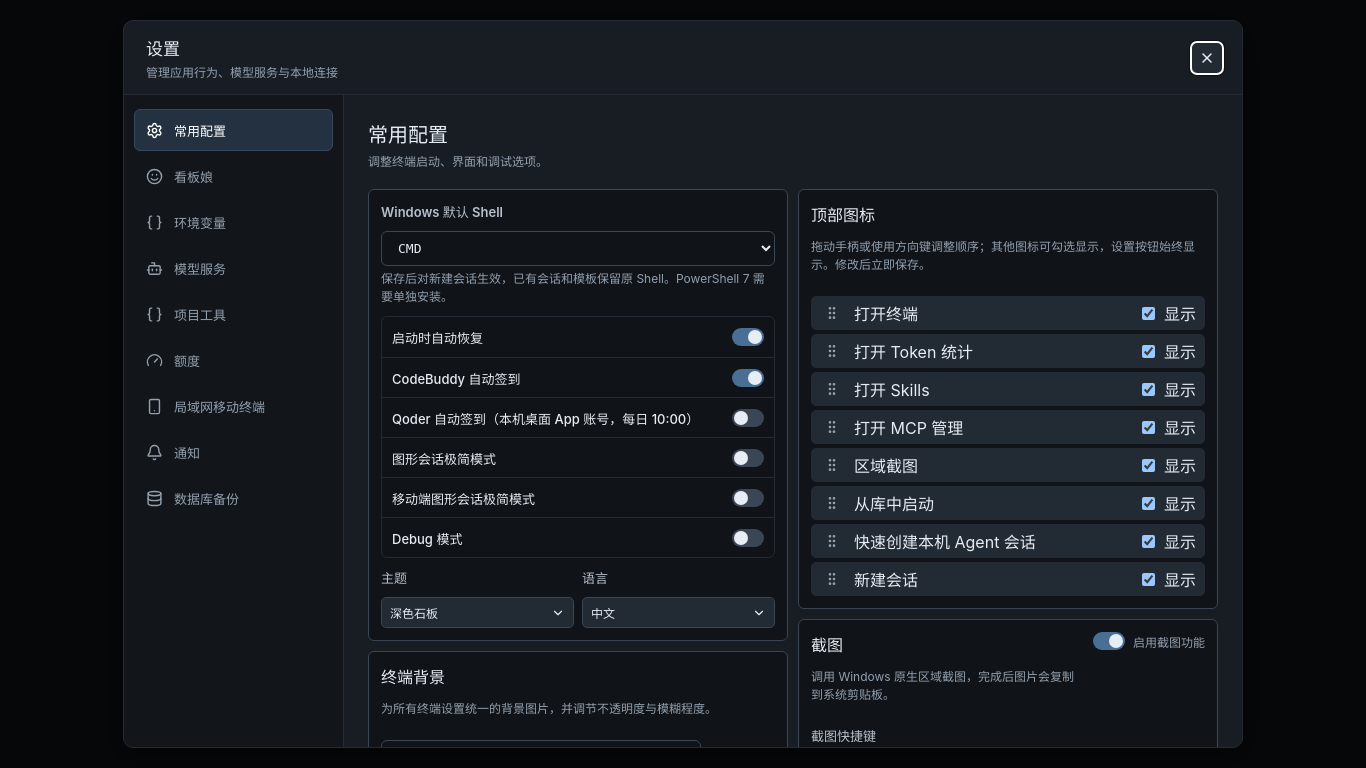
Test: SettingsModal navigation › keeps the draft open when save-before-close fails
This screenshot has width=1366, height=768.
Click the tab "环境变量" at (234, 222), box [134,201,333,243]
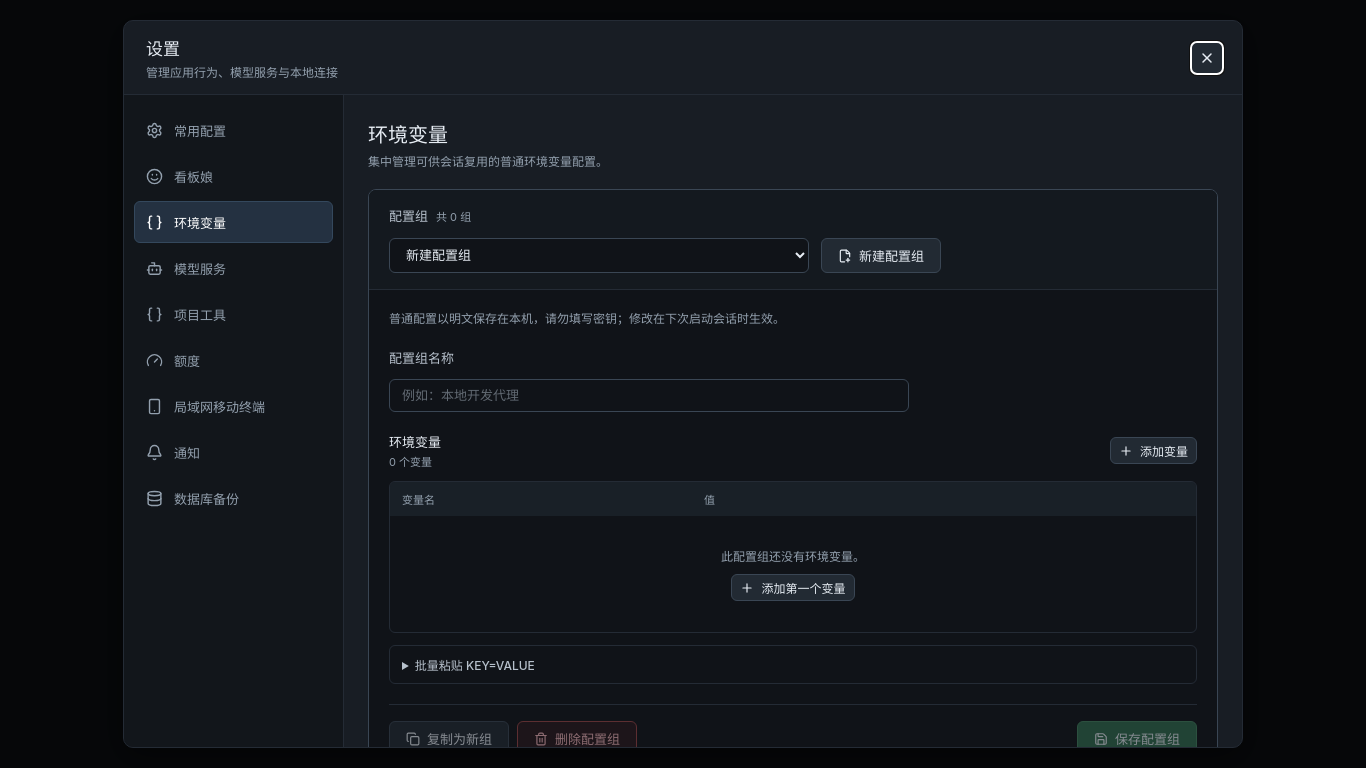
Type "开发" into the field labelled "配置组名称" at (649, 396), box [389,379,909,412]
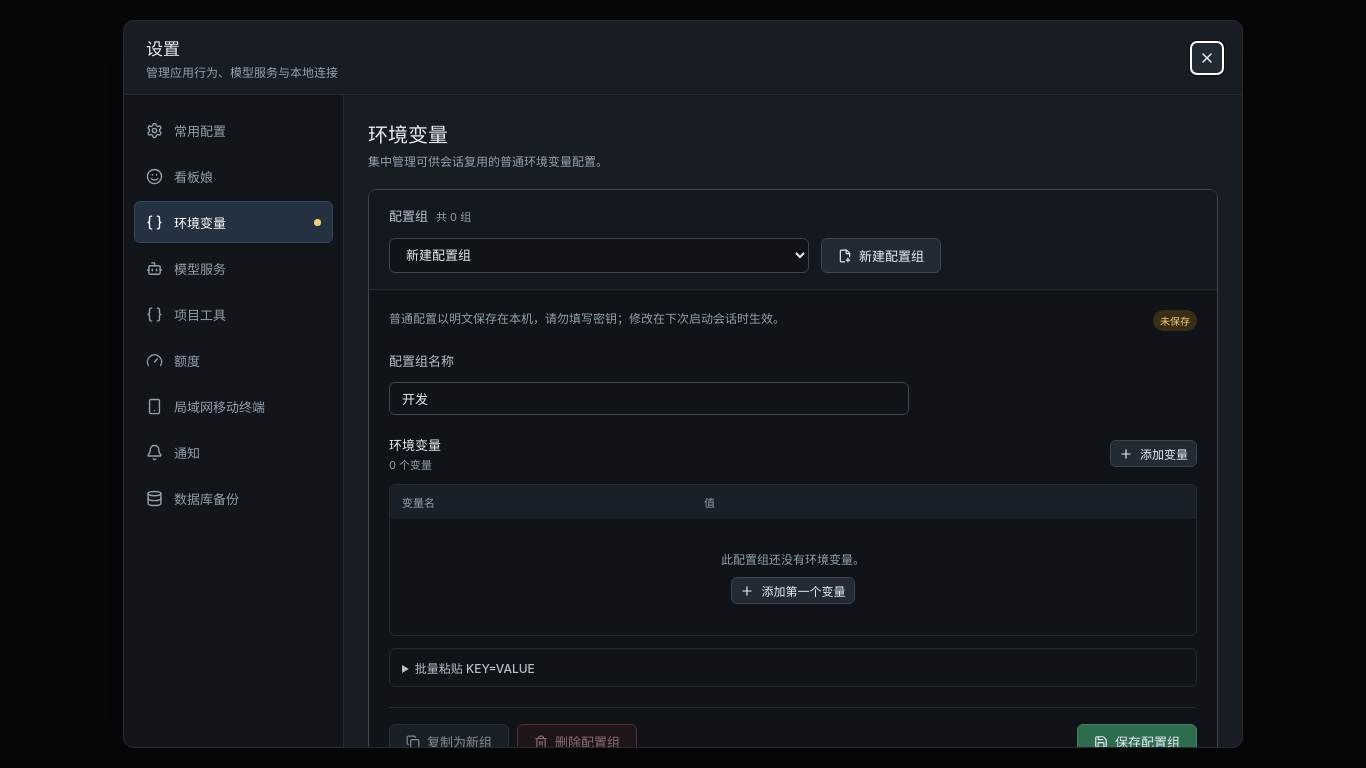
Click the heading "批量粘贴 KEY=VALUE" at (475, 668), box [415,661,535,676]
(page scrolled)
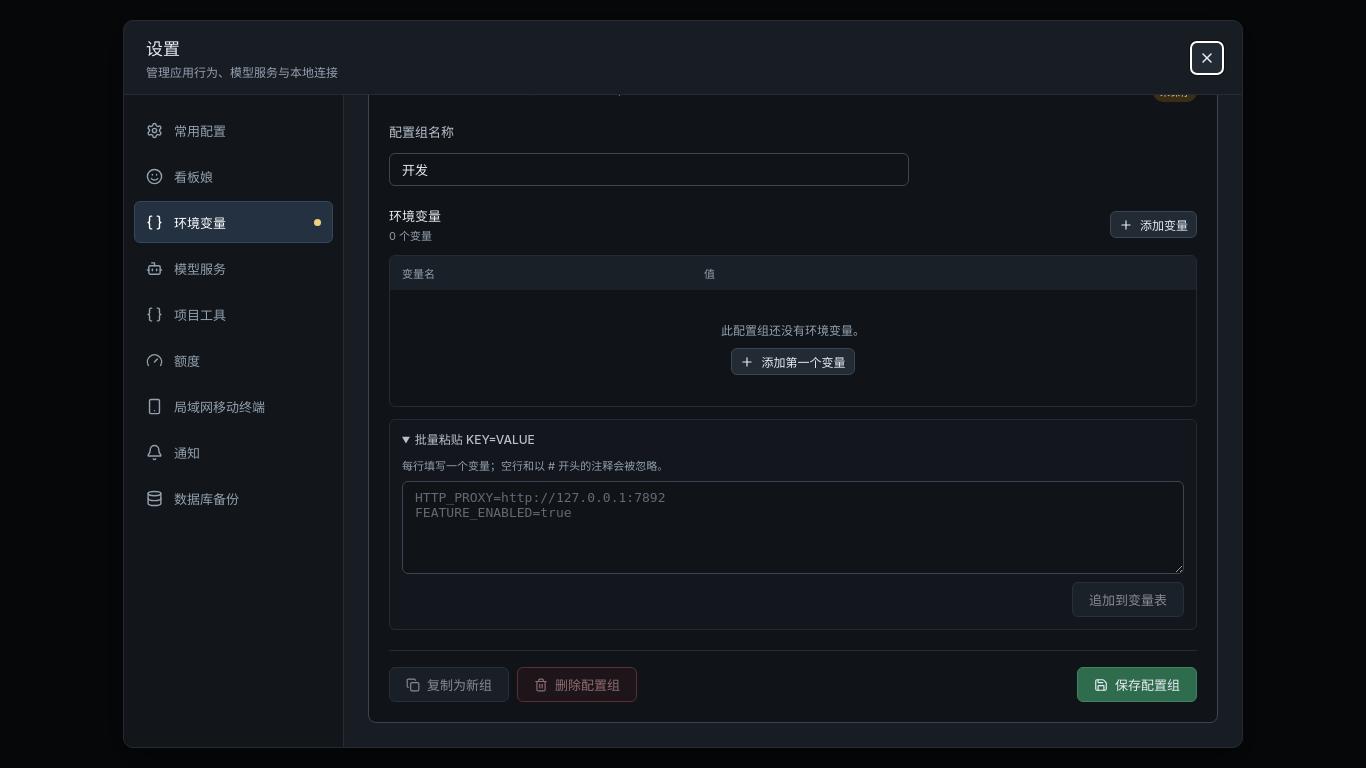
Type "TEST_FLAG=true" into the text box named "批量环境变量" at (793, 528), box [402,481,1184,574]
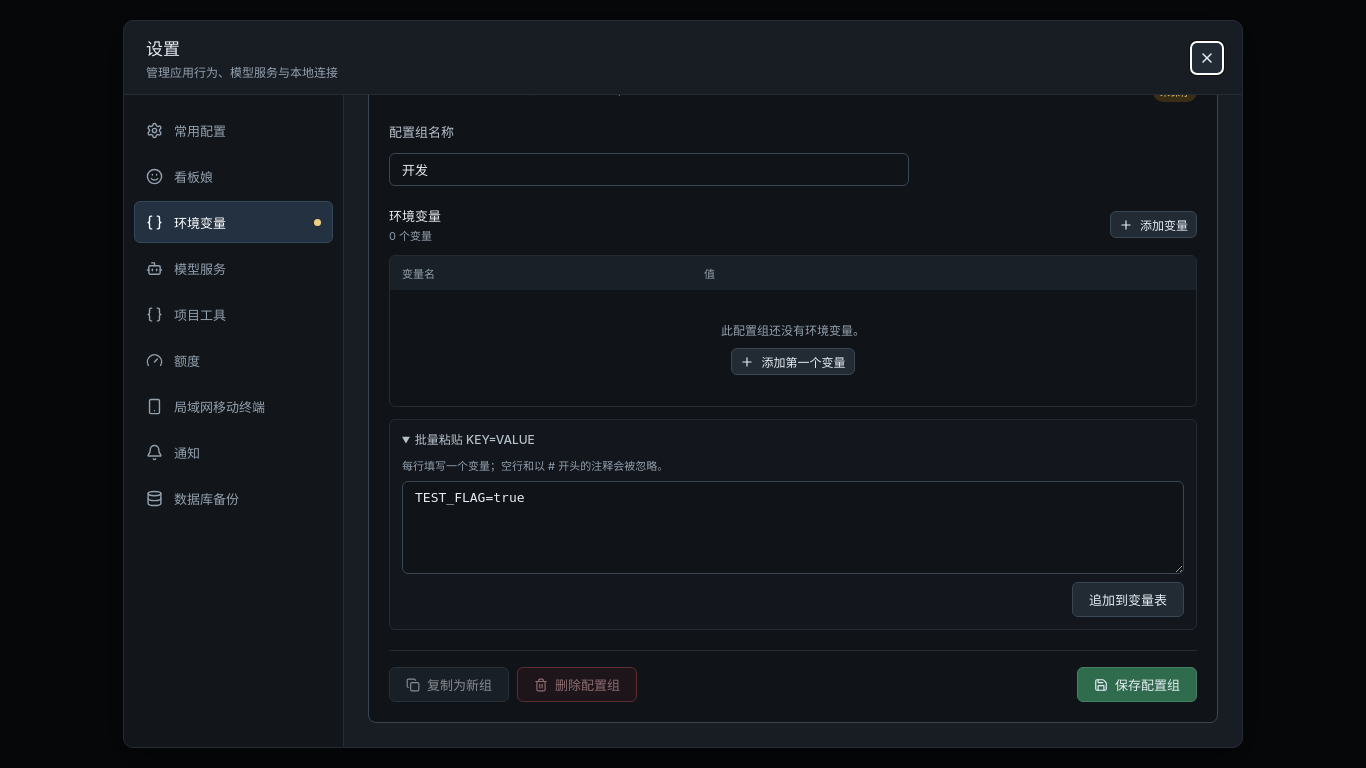
Click the button named "关闭" at (1207, 58), box [1190,40,1224,74]
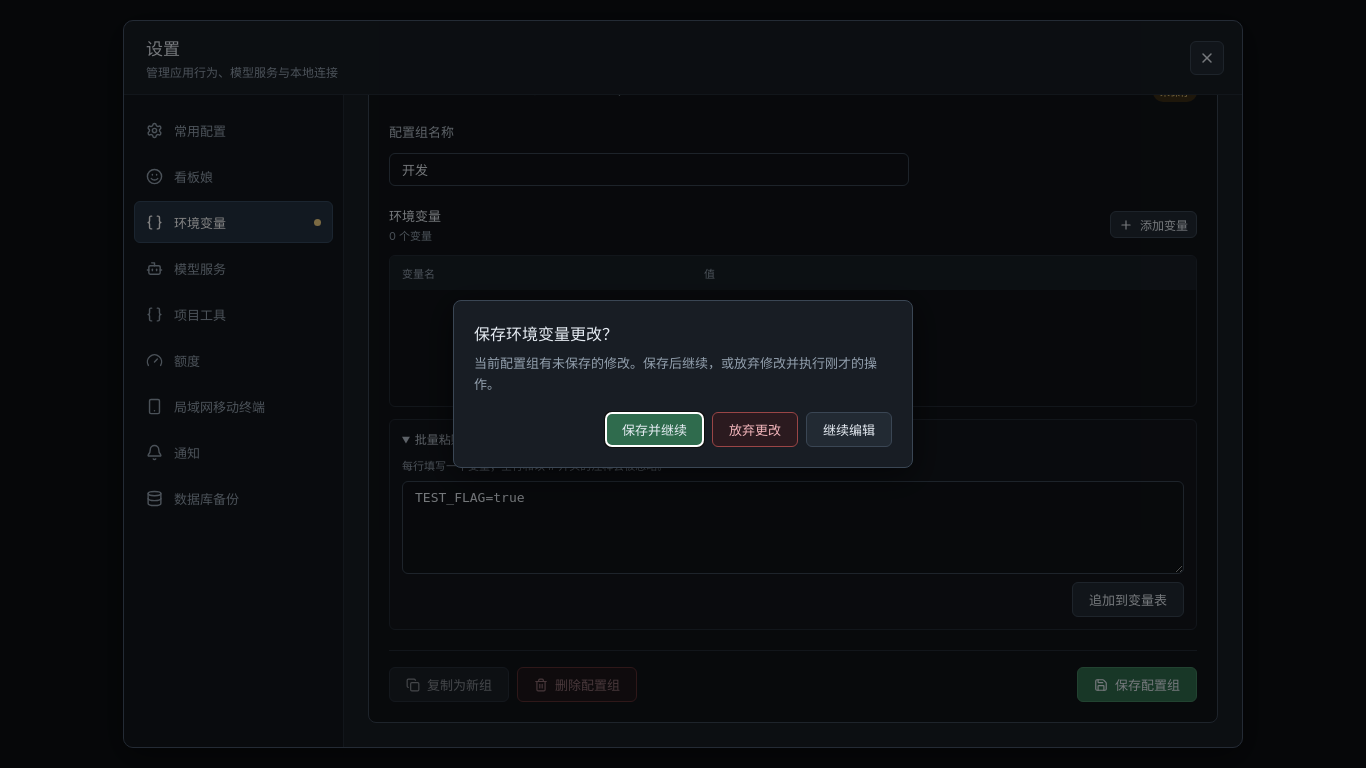
Click the button "保存并继续" at (654, 429), box [605,412,704,447]
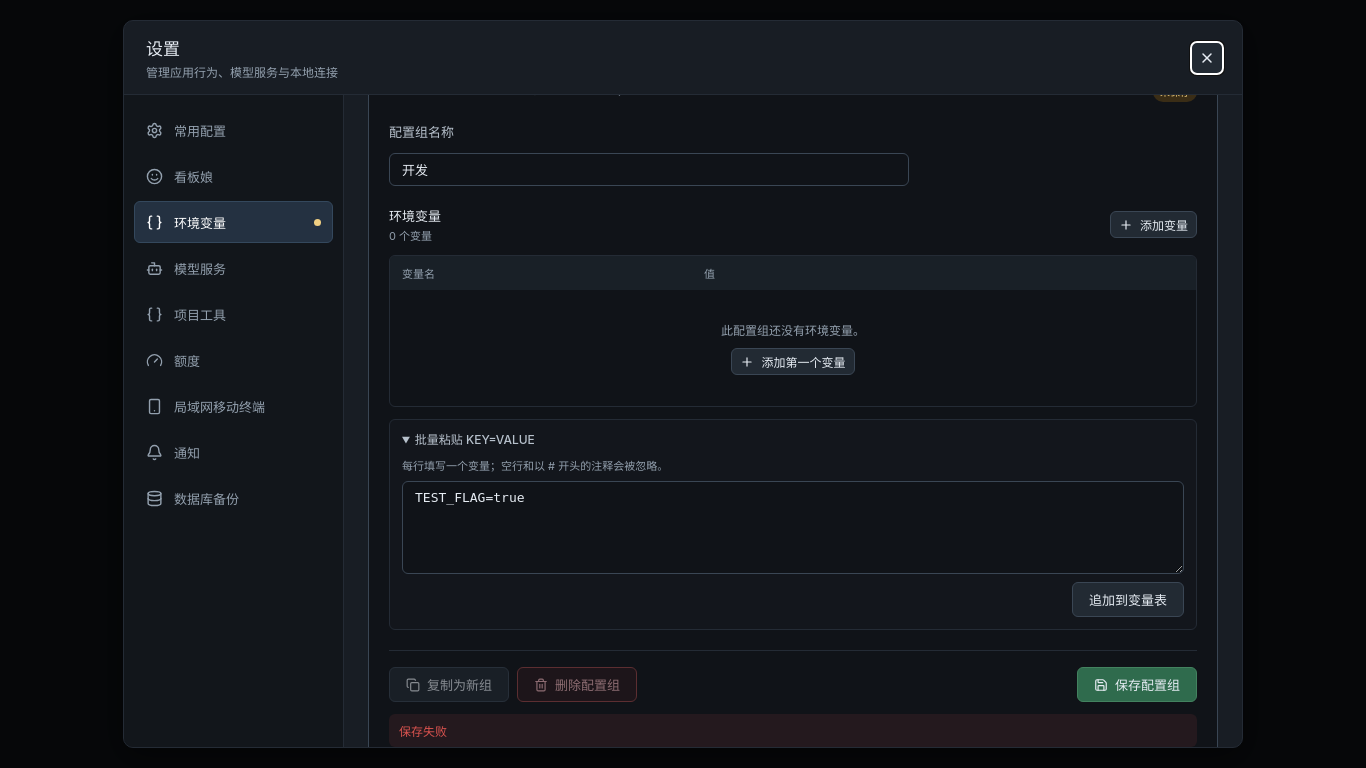
Result: the text "保存失败" is shown at [389,714,1197,747]
Result: the heading "保存环境变量更改？" is gone
